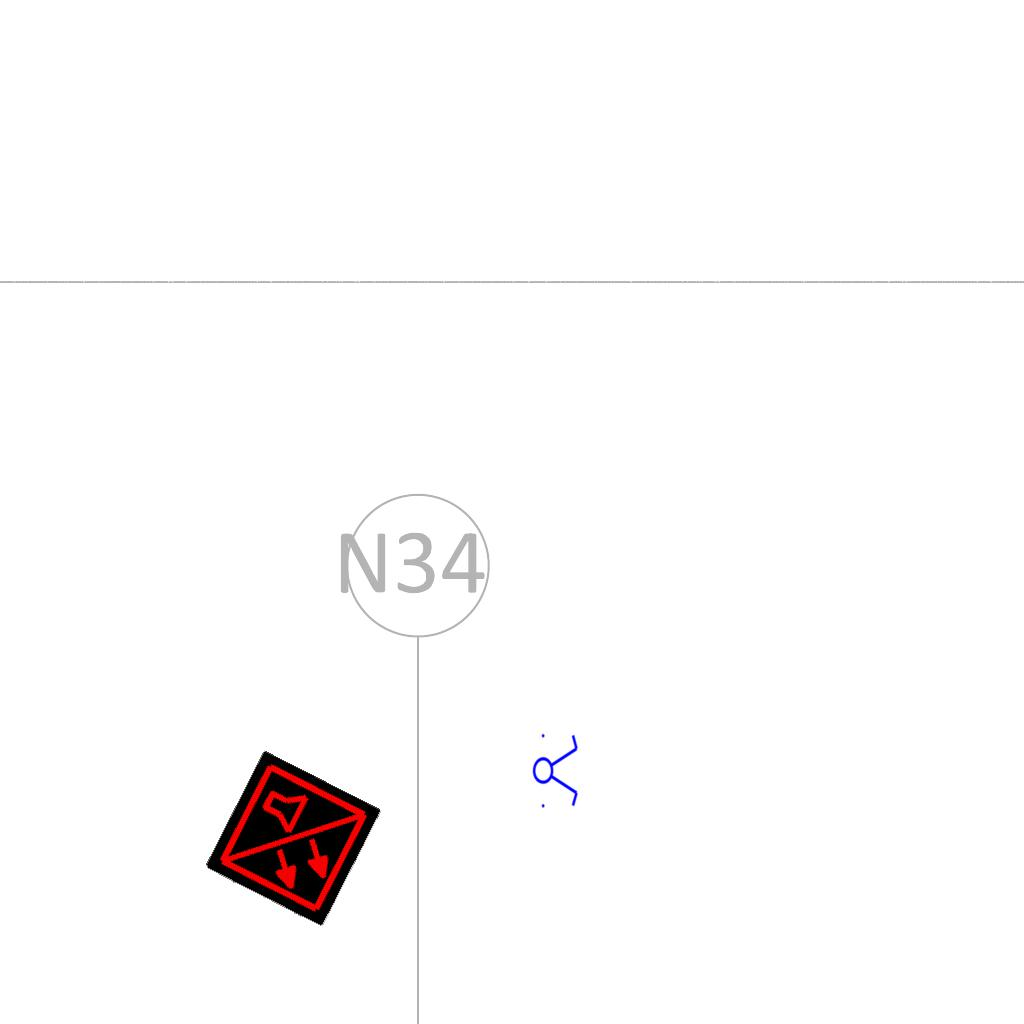OKW_Multisensormelder_(Kombination_optischer_Rauch-Kahlenmonoxid_Waerme-Melder): (204, 750, 382, 928)
Serienschalter: (532, 728, 580, 812)
